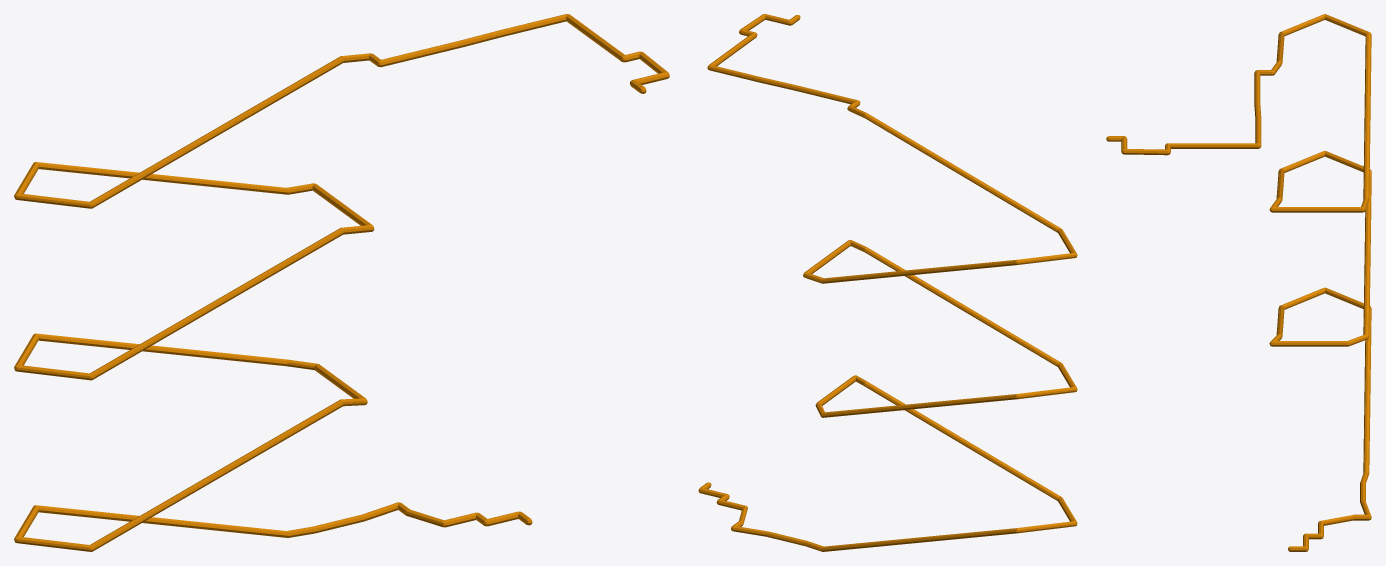
The picture shows the model from 3 angles, left to right: view 1: azimuth 30°, elevation 25°; view 2: azimuth 150°, elevation 25°; view 3: azimuth 270°, elevation 25°; orthographic projection. The views are drawn at different scales.
Bounding box in the file's own units: 1619 × 1520 × 880.
